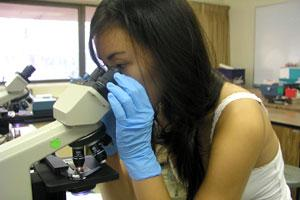person: (90, 2, 293, 199)
